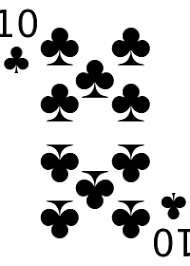ten of clubs: (1, 1, 190, 260)
